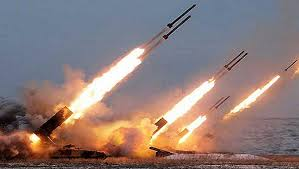ten_lua: (160, 3, 199, 43), (209, 92, 240, 120), (223, 48, 251, 73), (283, 56, 298, 75)
